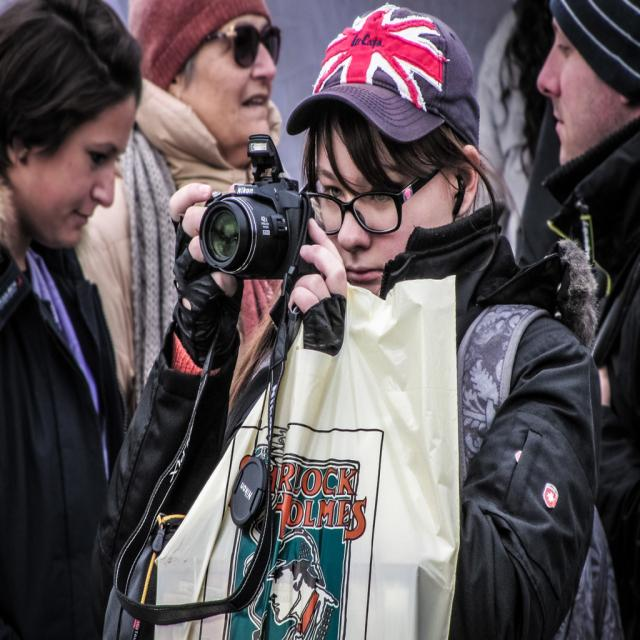Hat: (284, 0, 481, 146)
